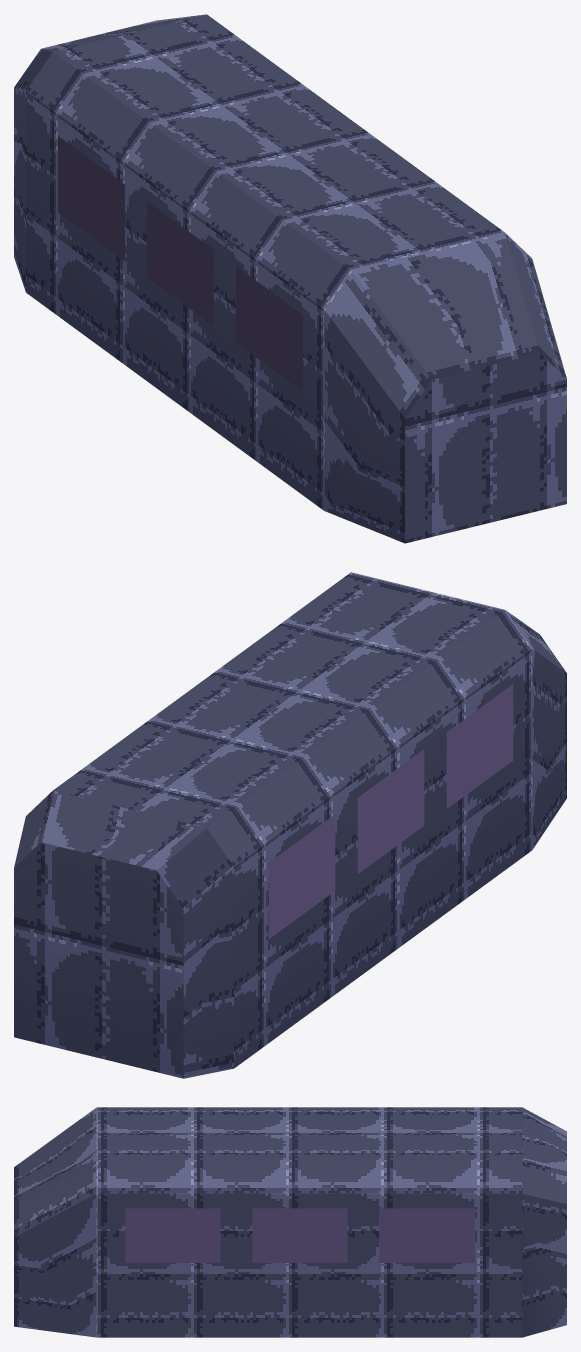
The model's file is cyroom.train.glb.
3 renders of one model, top to bottom at view 1: azimuth 30°, elevation 25°; view 2: azimuth 150°, elevation 25°; view 3: azimuth 270°, elevation 25°, orthographic. The views are drawn at different scales.
Visible parts, largest first — view 1: kit_body, kit_card_details; view 2: kit_body, kit_card_details; view 3: kit_body, kit_card_details.
Boxes of the visible parts, x1=… form: kit_body: x1=14, y1=14, x2=566, y2=543; kit_card_details: x1=58, y1=136, x2=302, y2=391; kit_body: x1=14, y1=572, x2=566, y2=1078; kit_card_details: x1=268, y1=684, x2=513, y2=938; kit_body: x1=14, y1=1107, x2=566, y2=1337; kit_card_details: x1=125, y1=1208, x2=474, y2=1262.
Size of the model in its own units: 2.73 by 2.9 by 8.7.
Materials: 2 (1 with a texture image).
